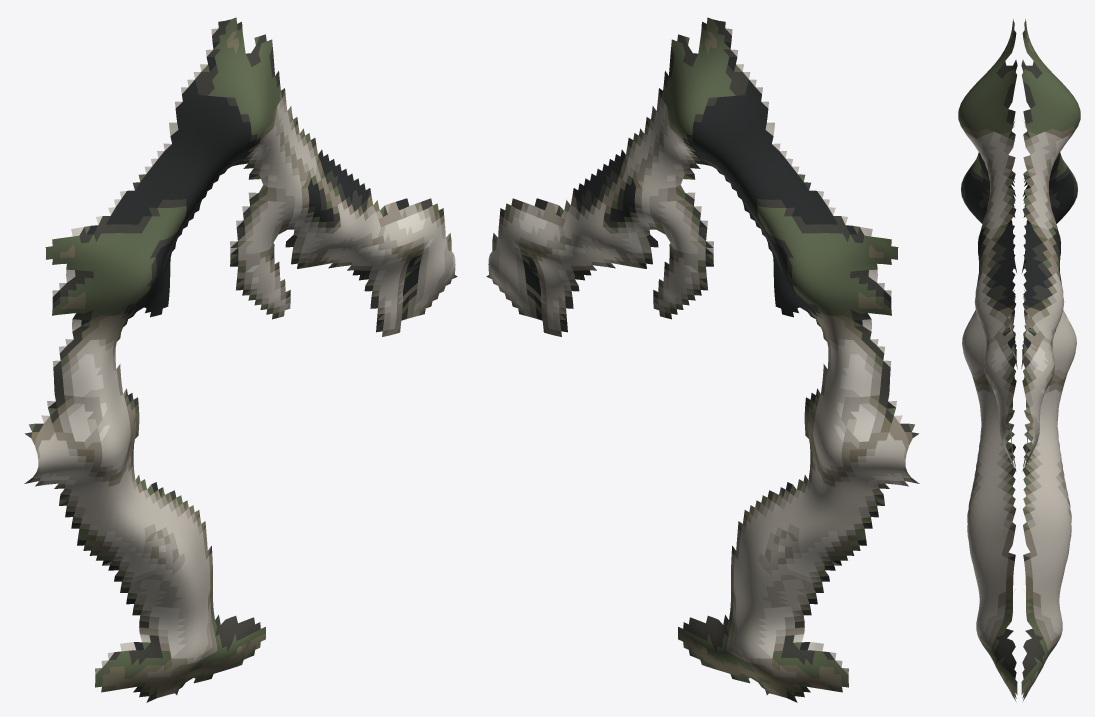
File: groundzomber.glb
The picture shows the model from 3 angles, left to right: view 1: azimuth 30°, elevation 25°; view 2: azimuth 150°, elevation 25°; view 3: azimuth 270°, elevation 25°; orthographic projection. The views are drawn at different scales.
Visible parts, largest first — view 1: groundzomber; view 2: groundzomber; view 3: groundzomber.
Boxes of the visible parts, x1=… form: groundzomber: x1=24, y1=17, x2=457, y2=702; groundzomber: x1=486, y1=17, x2=919, y2=702; groundzomber: x1=958, y1=19, x2=1080, y2=700.
Size of the model in its own units: 747 by 1090 by 175.
